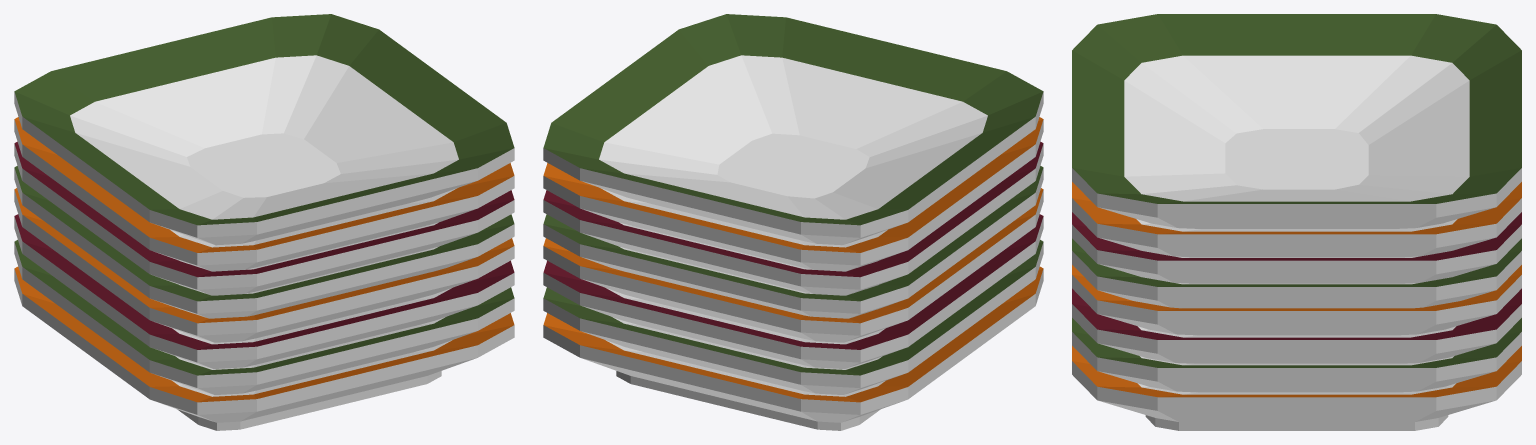
The model's file is R_Plates_Soup.fbx.
3 views of the same model, side by side, from view 1: azimuth 30°, elevation 25°; view 2: azimuth 150°, elevation 25°; view 3: azimuth 270°, elevation 25° (orthographic). The views are drawn at different scales.
Visible parts, largest first — view 1: R_Plates_Soup; view 2: R_Plates_Soup; view 3: R_Plates_Soup.
Boxes of the visible parts, left/top/right/bottom form: R_Plates_Soup: left=14, top=14, right=514, bottom=430; R_Plates_Soup: left=543, top=14, right=1043, bottom=430; R_Plates_Soup: left=1072, top=14, right=1521, bottom=430.
Size of the model in its own units: 178 by 178 by 113.
